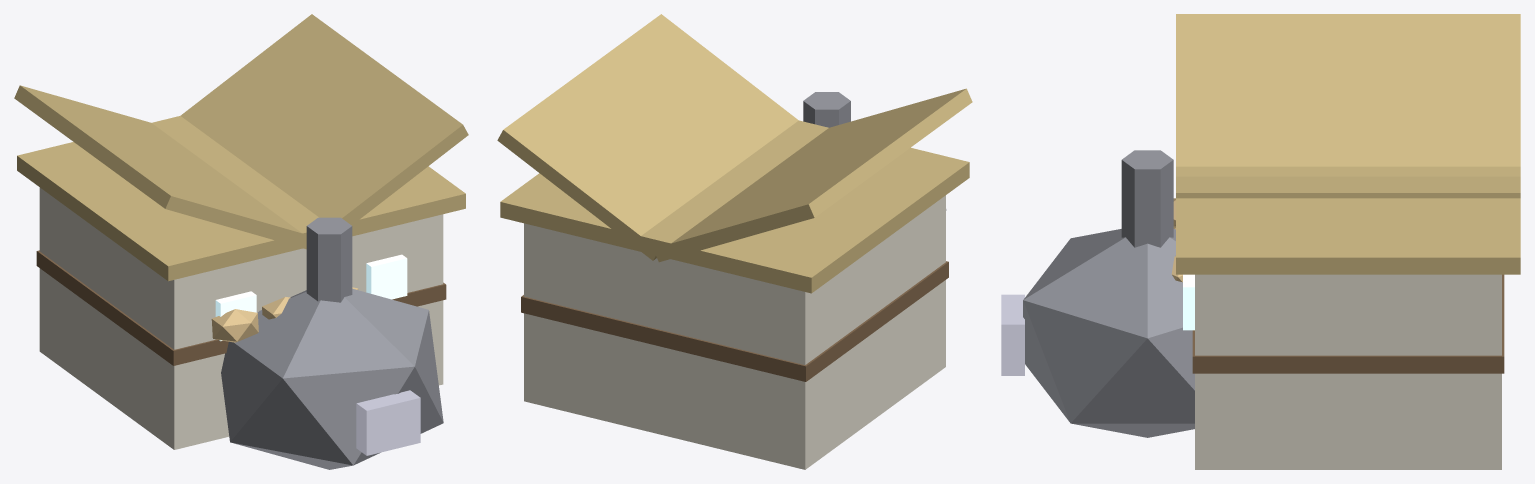
File: bakery.glb
The picture shows the model from 3 angles, left to right: view 1: azimuth 30°, elevation 25°; view 2: azimuth 150°, elevation 25°; view 3: azimuth 270°, elevation 25°; orthographic projection. The views are drawn at different scales.
Parts seen in each view (by area): view 1: BakeryWall, BakeryRoofSlabR, Oven, BakeryRoof, BakeryRoofSlabL, BakeryRail, OvenStack, OvenMouth, BakeryWindow, Loaf0, BakeryWindow2; view 2: BakeryWall, BakeryRoofSlabR, BakeryRoof, BakeryRoofSlabL, BakeryRail, OvenStack; view 3: BakeryWall, BakeryRoofSlabL, BakeryRoof, Oven, BakeryRoofSlabR, BakeryRail, OvenStack, OvenMouth, BakeryWindow.
Boxes of the visible parts, x1,y1,x2,y2 form: BakeryWall: (39,187,443,449); BakeryRoofSlabR: (180,14,468,223); Oven: (221,288,443,469); BakeryRoof: (17,116,465,281); BakeryRoofSlabL: (14,85,306,249); BakeryRail: (36,250,446,365); OvenStack: (306,217,352,302); OvenMouth: (356,390,420,455); BakeryWindow: (366,254,407,299); Loaf0: (211,309,258,342); BakeryWindow2: (215,291,256,341); BakeryWall: (524,195,945,469); BakeryRoofSlabR: (497,14,798,260); BakeryRoof: (500,120,969,293); BakeryRoofSlabL: (653,88,972,262); BakeryRail: (521,261,948,381); OvenStack: (803,92,850,127); BakeryWall: (1195,274,1501,469); BakeryRoofSlabL: (1176,14,1520,166); BakeryRoof: (1176,166,1520,274); Oven: (1023,229,1194,437); BakeryRoofSlabR: (1176,176,1520,198); BakeryRail: (1192,274,1504,373); OvenStack: (1121,150,1173,247); OvenMouth: (1001,294,1024,375); BakeryWindow: (1183,274,1194,330).
Bounding box in the file's own units: 1.69 × 1.6 × 2.2.
